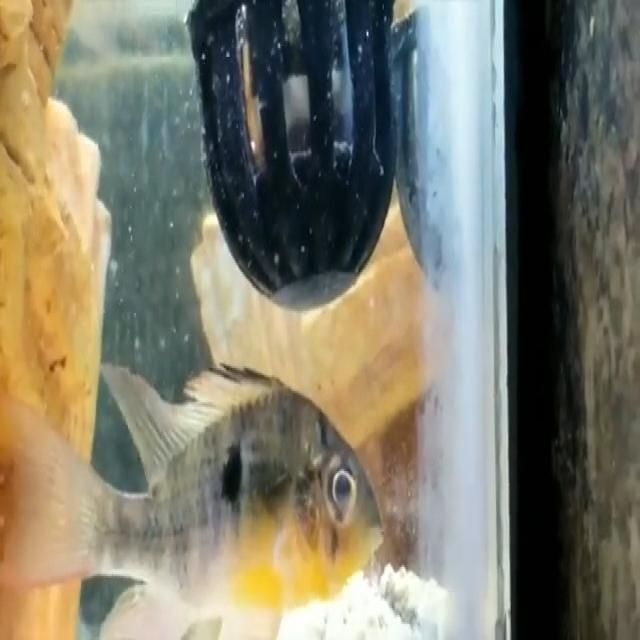fish: (5, 364, 391, 640)
